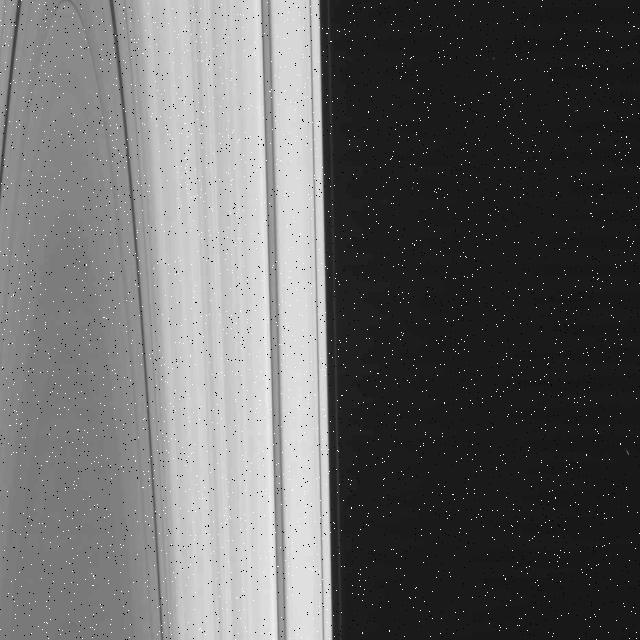Saturn: (0, 0, 337, 640)
